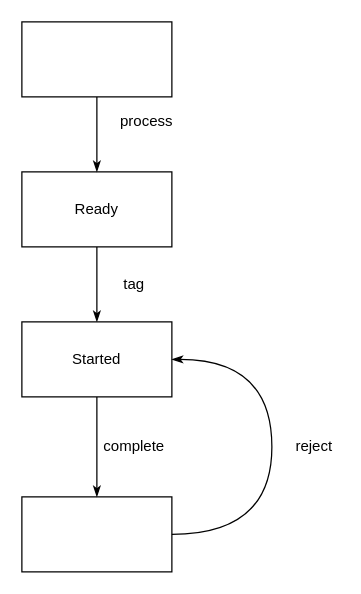
Some shapes in this 361 by 594 pixel diagram are drawn without their labels. Each missing label, with the centre of its shape:
Finished: (96,534)
Incoming: (96,59)
